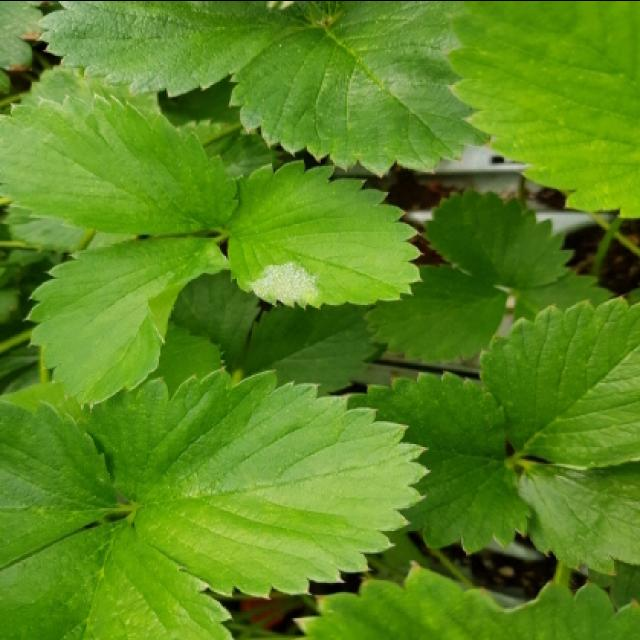Powdery Mildew Leaf: (223, 158, 423, 309)
